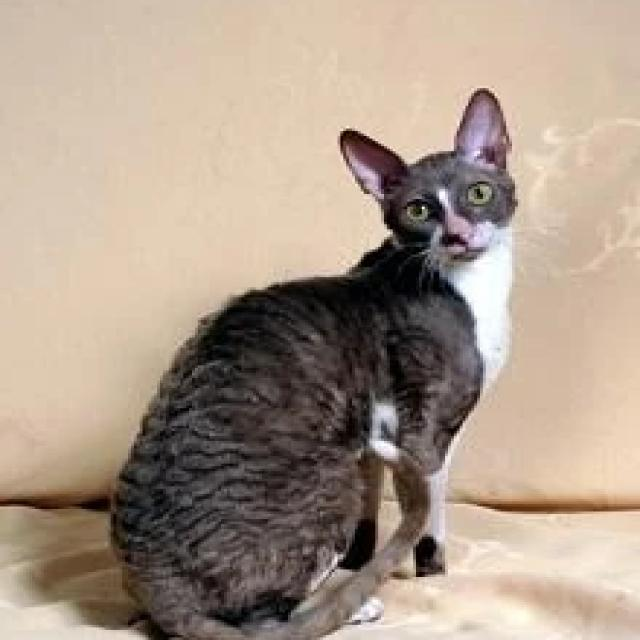Cornish Rex: (96, 78, 524, 640)
